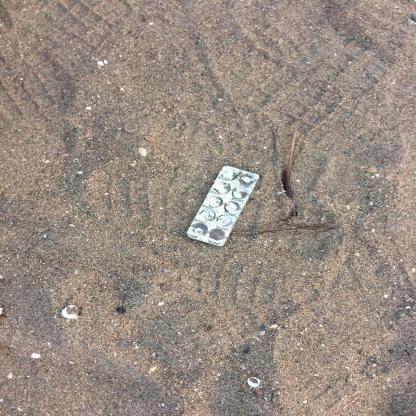plastik: (170, 187, 252, 261)
